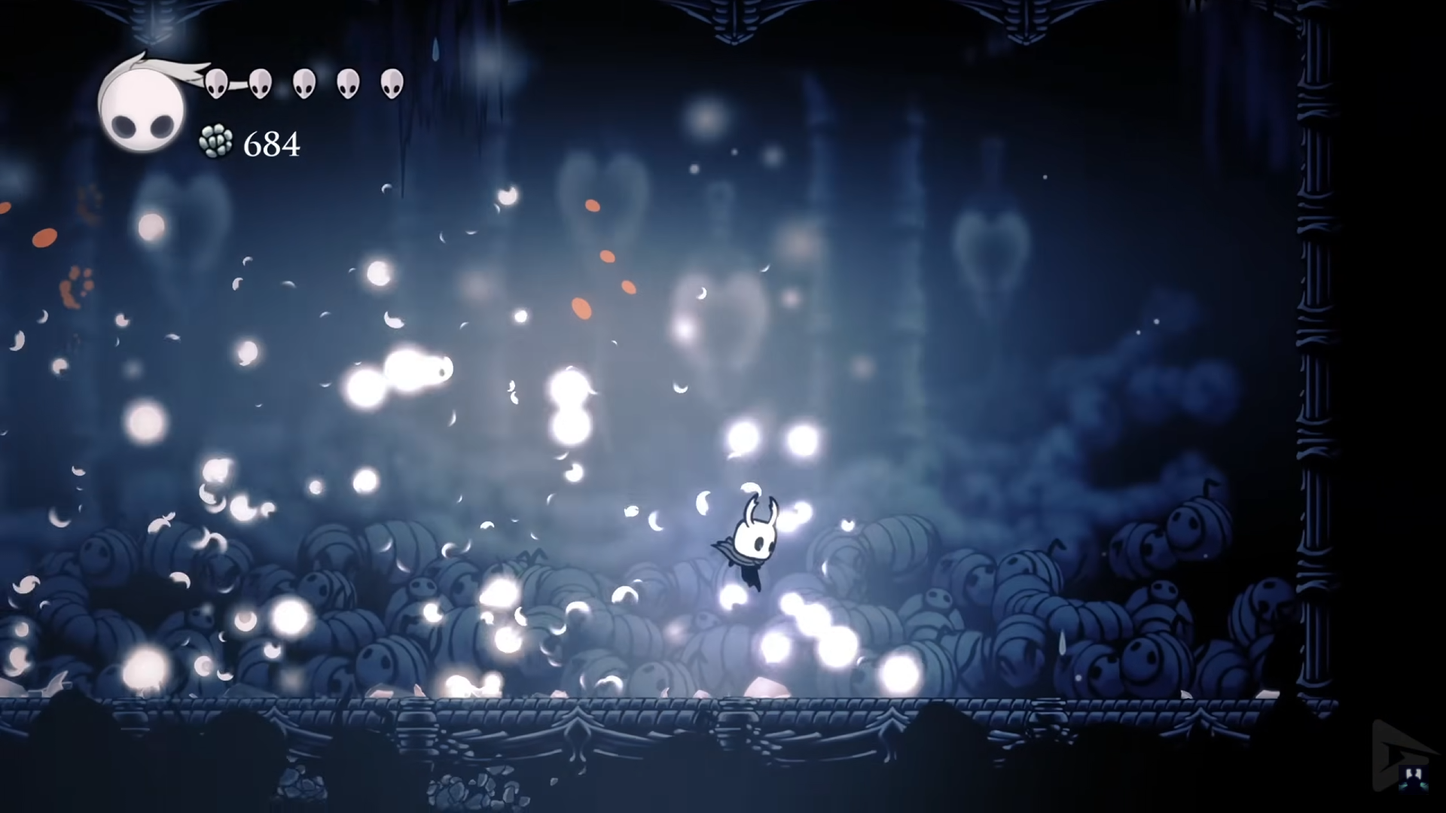HK: (718, 491, 787, 593)
